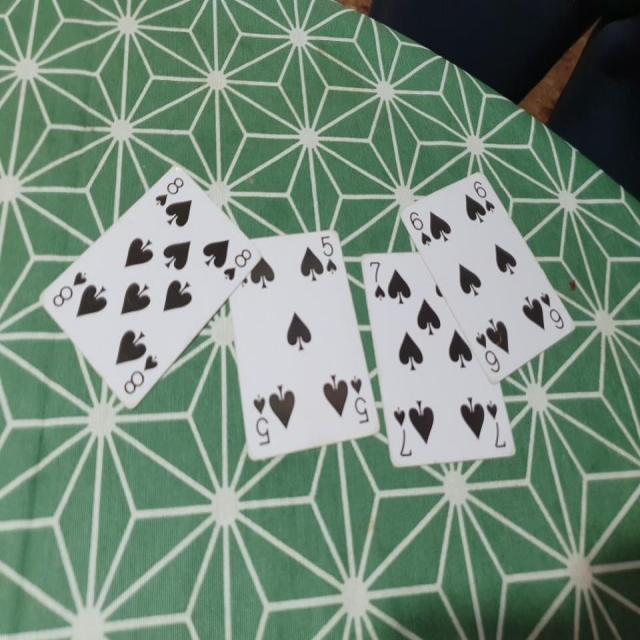5 Spades: (212, 223, 383, 471)
6 Spades: (400, 165, 582, 385)
7 Spades: (356, 253, 521, 475)
8 Spades: (31, 153, 263, 411)
